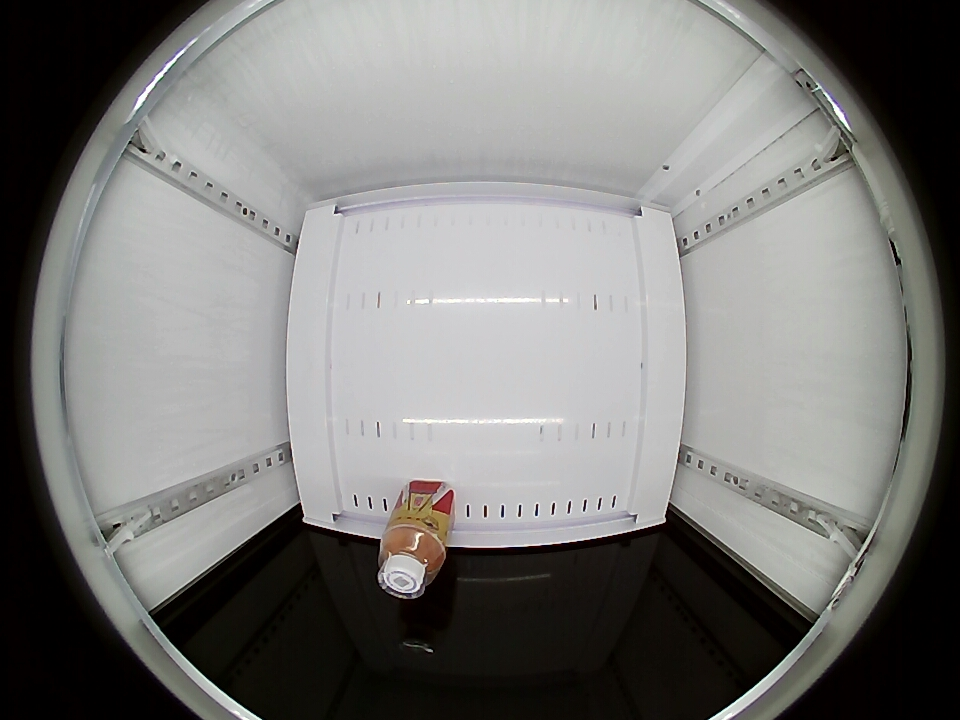dongpeng-b: (377, 524, 448, 599)
